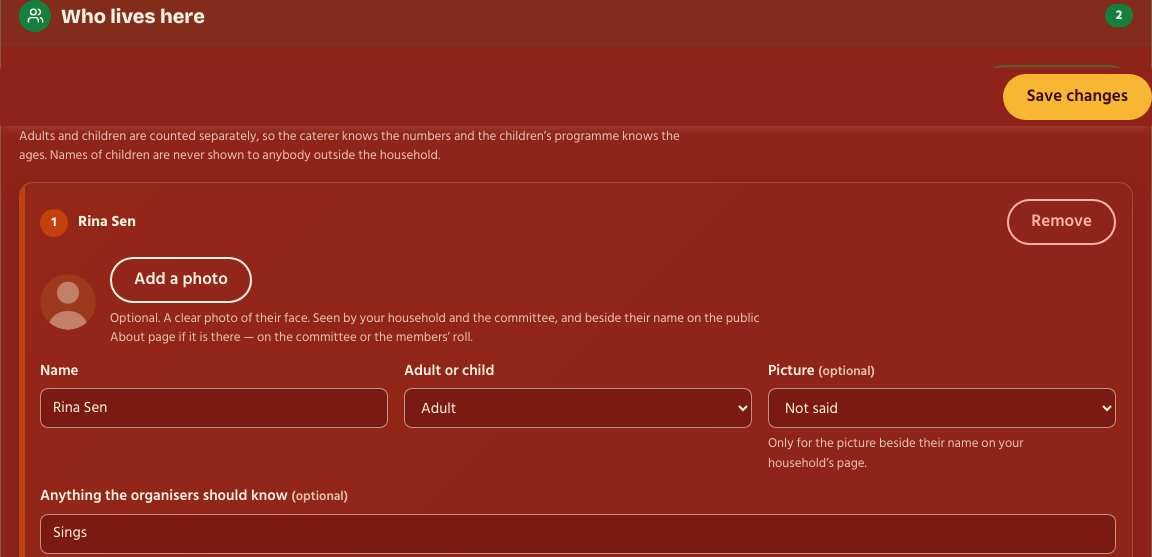
Test: refusing to save something wrong › refuses a household with nobody in it who is grown up
The width and height of the screenshot is (1152, 557).
(page scrolled)
Select "Child" in the dropdown labelled "Adult or child" at (578, 408), box x1=404 y1=388 x2=752 y2=428
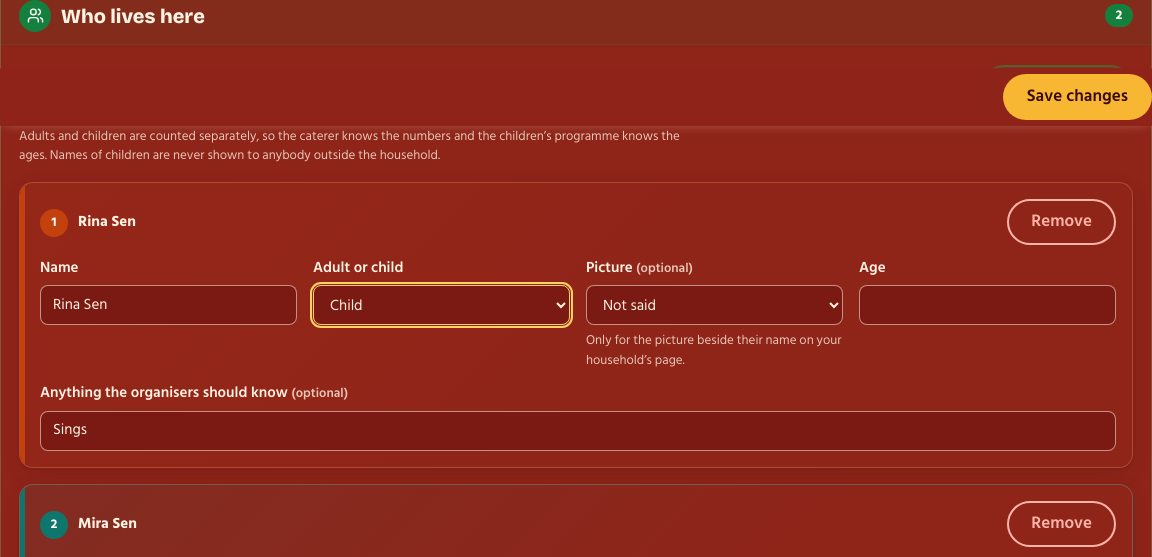
Click the button "Save changes" at (1077, 97), box x1=1003 y1=74 x2=1151 y2=120
(page scrolled)
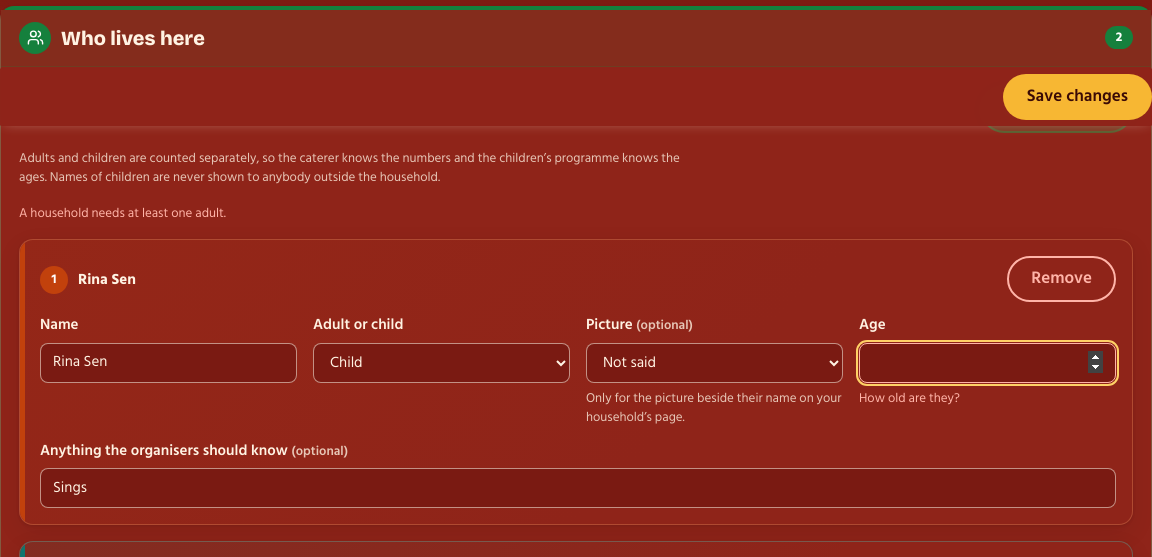
Now the text "A household needs at least one adult." is shown, box x1=19 y1=202 x2=226 y2=224
